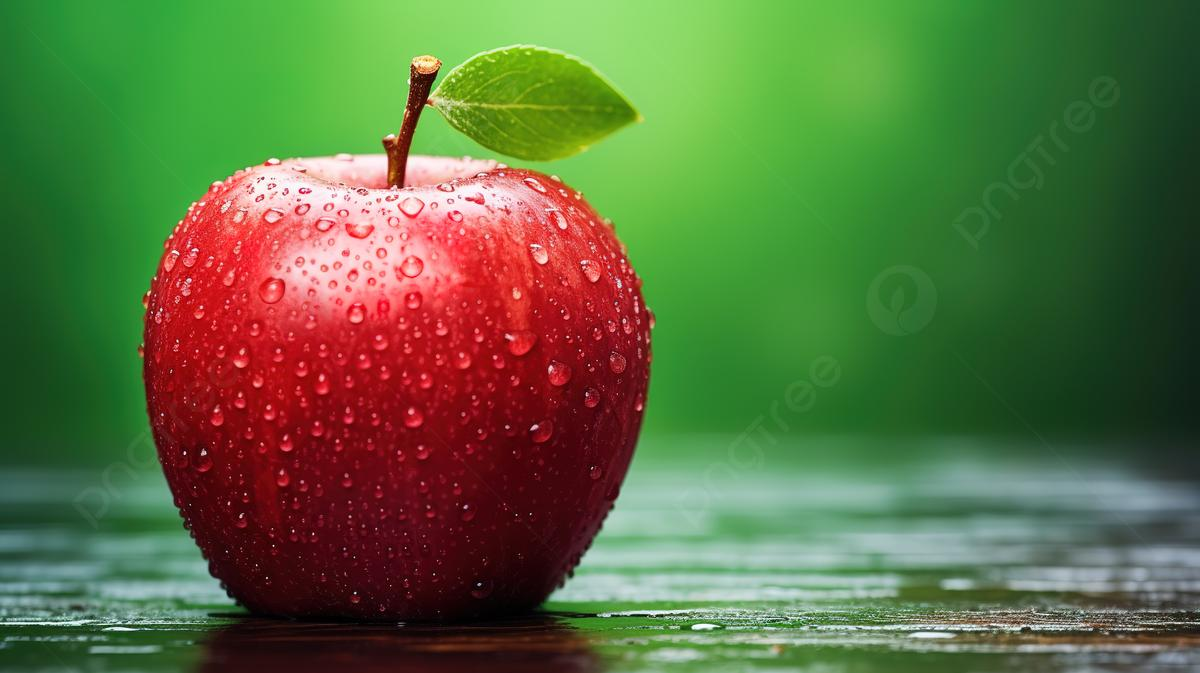apples: (146, 79, 794, 626)
